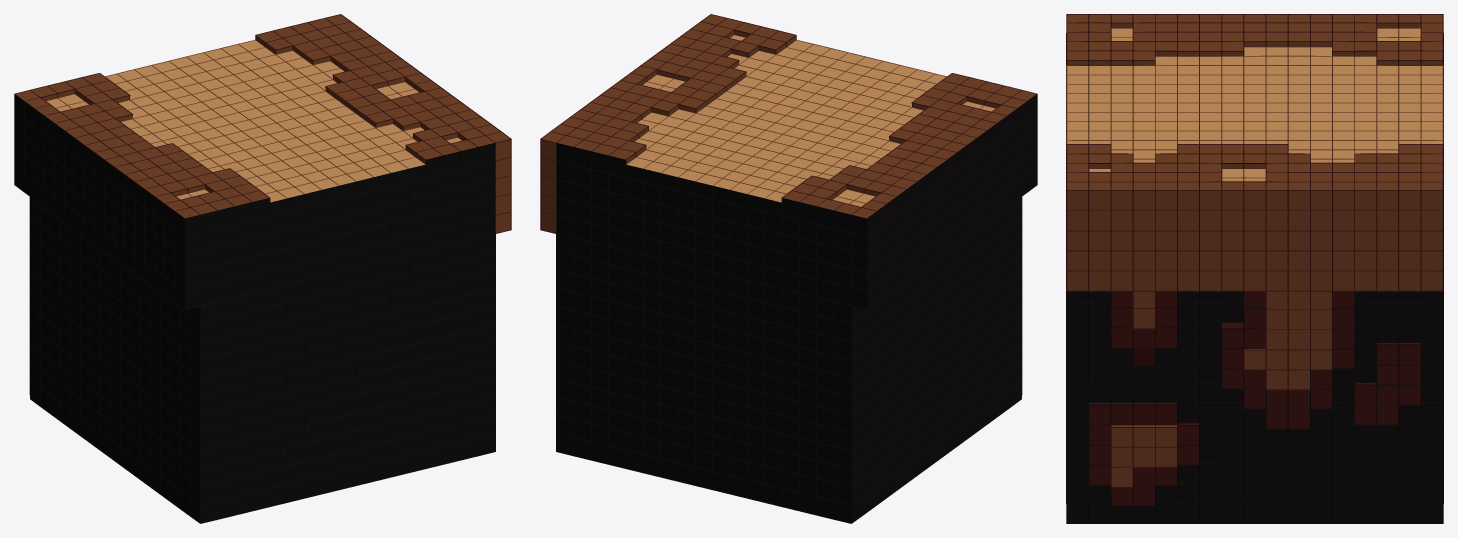
3 views of the same model, side by side, from view 1: azimuth 30°, elevation 25°; view 2: azimuth 150°, elevation 25°; view 3: azimuth 270°, elevation 25° (orthographic). The views are drawn at different scales.
Visible parts, largest first — view 1: running_1_light; view 2: running_1_light; view 3: running_1_light.
Part boxes in pixels (x1=…): running_1_light: x1=14, y1=14, x2=511, y2=523; running_1_light: x1=540, y1=14, x2=1037, y2=523; running_1_light: x1=1066, y1=14, x2=1443, y2=523.
Size of the model in its own units: 2.22 by 2.01 by 2.01.
